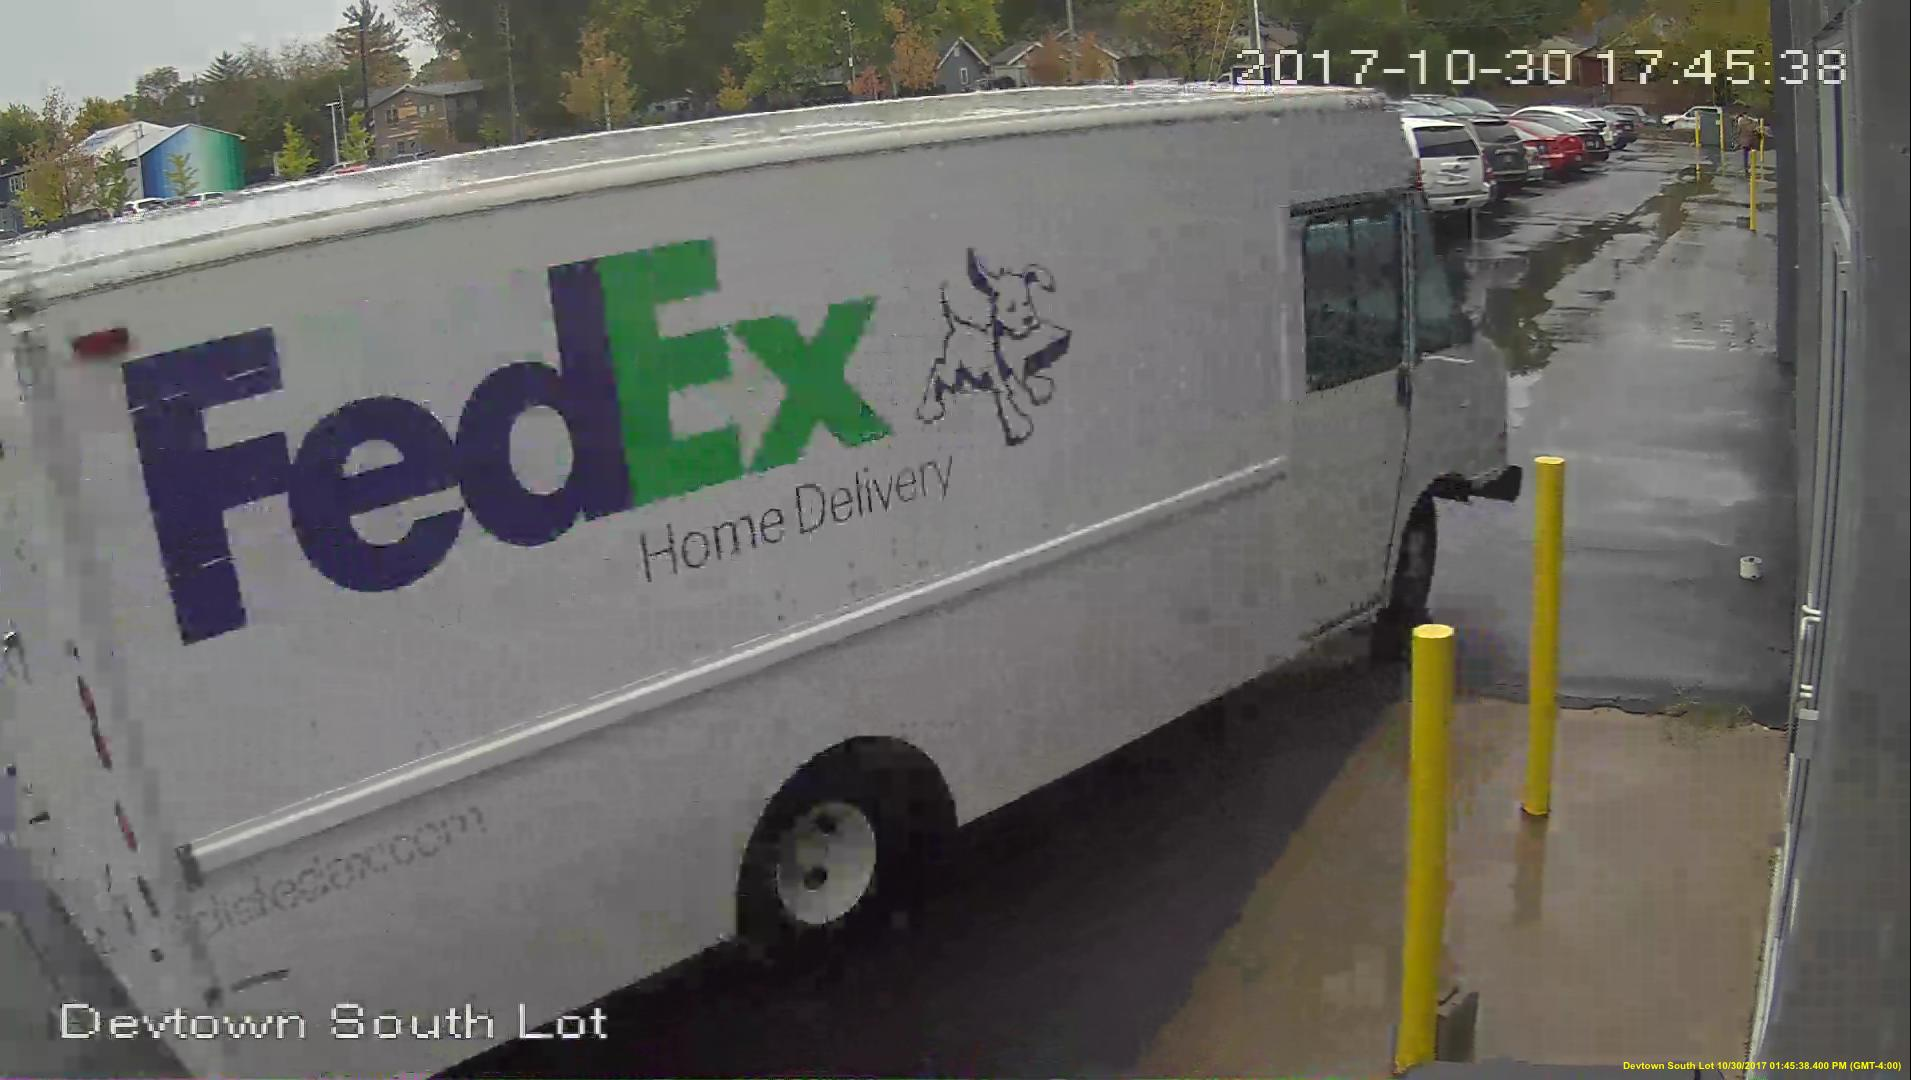fedex_truck: (3, 84, 1505, 1077)
